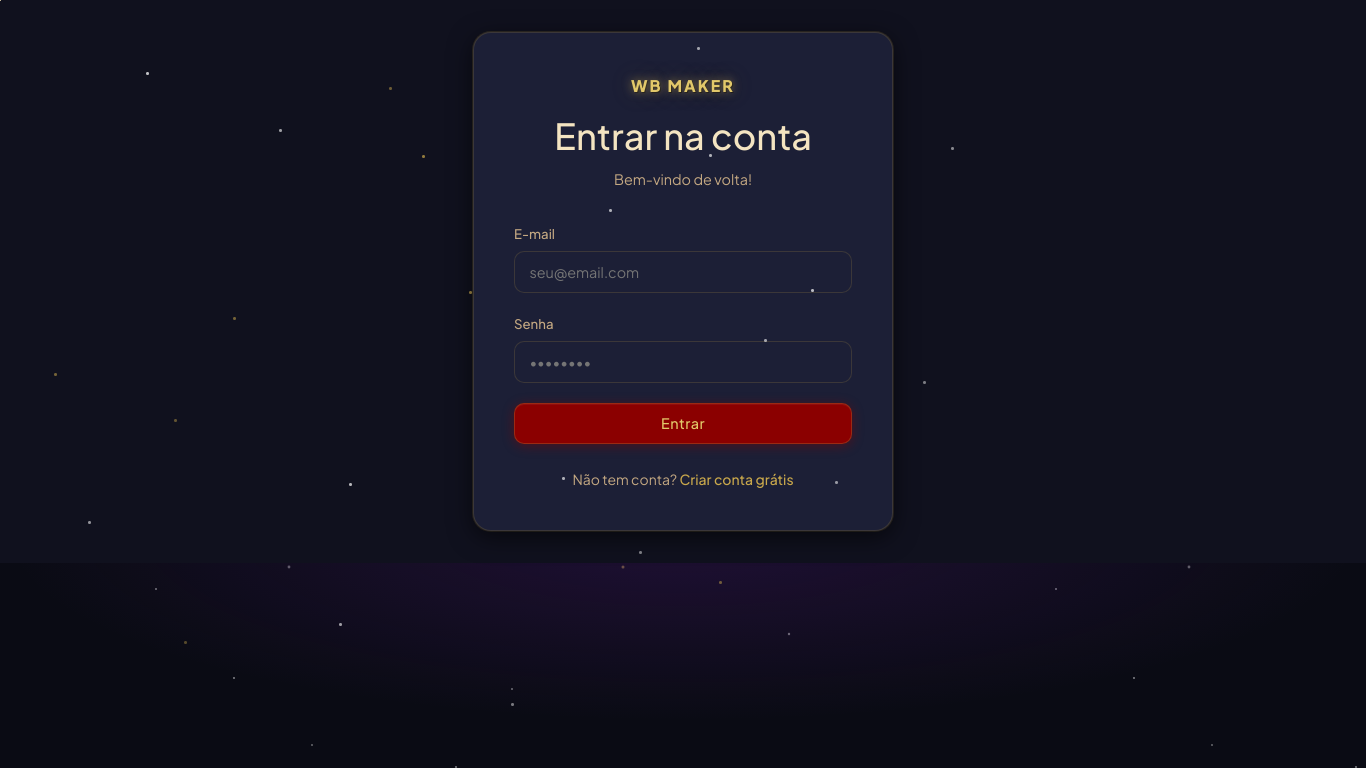
Test: LoginPage — integração › exibe mensagem de erro quando credenciais estão incorretas
Type "errado@email.com" into the field labelled "E-mail" at (683, 272), box [514,251,852,293]
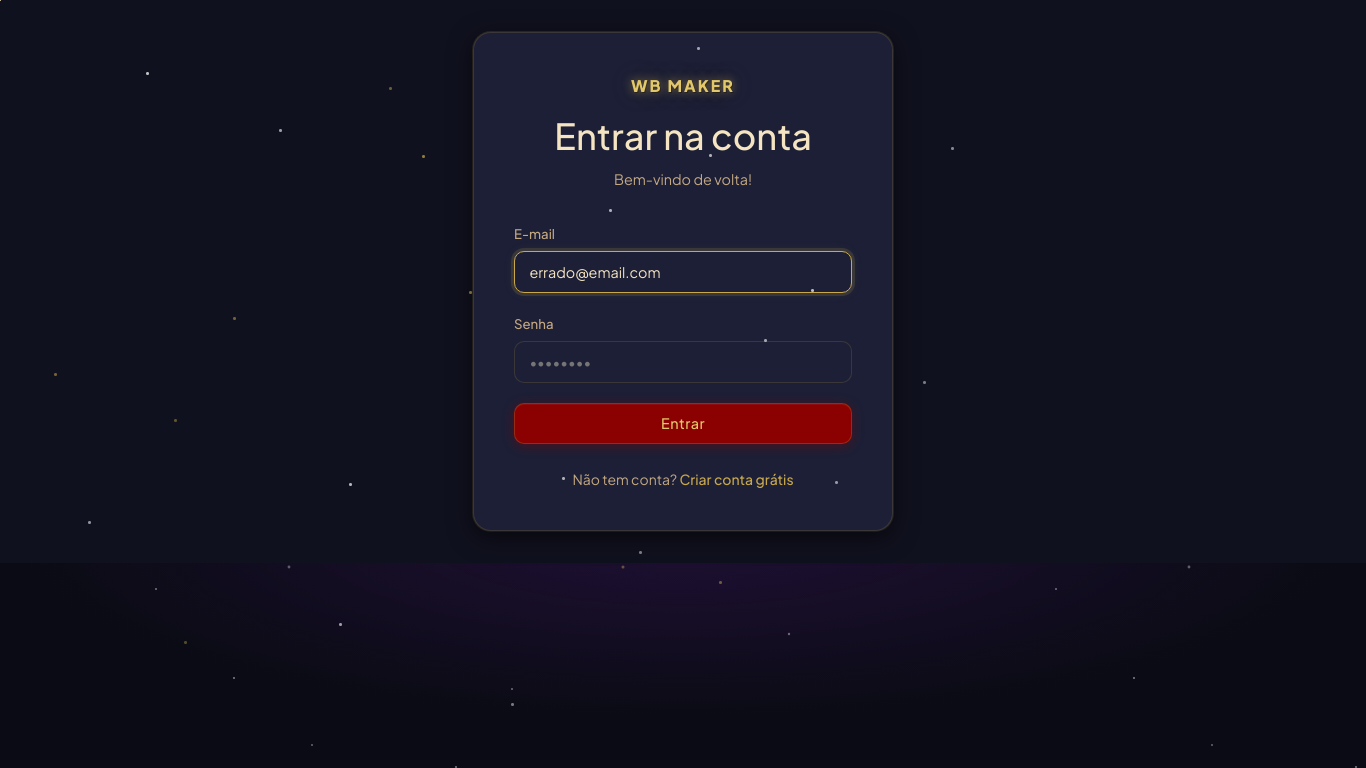
Type "senhaerrada" into the password field labelled "Senha" at (683, 362), box [514,341,852,383]
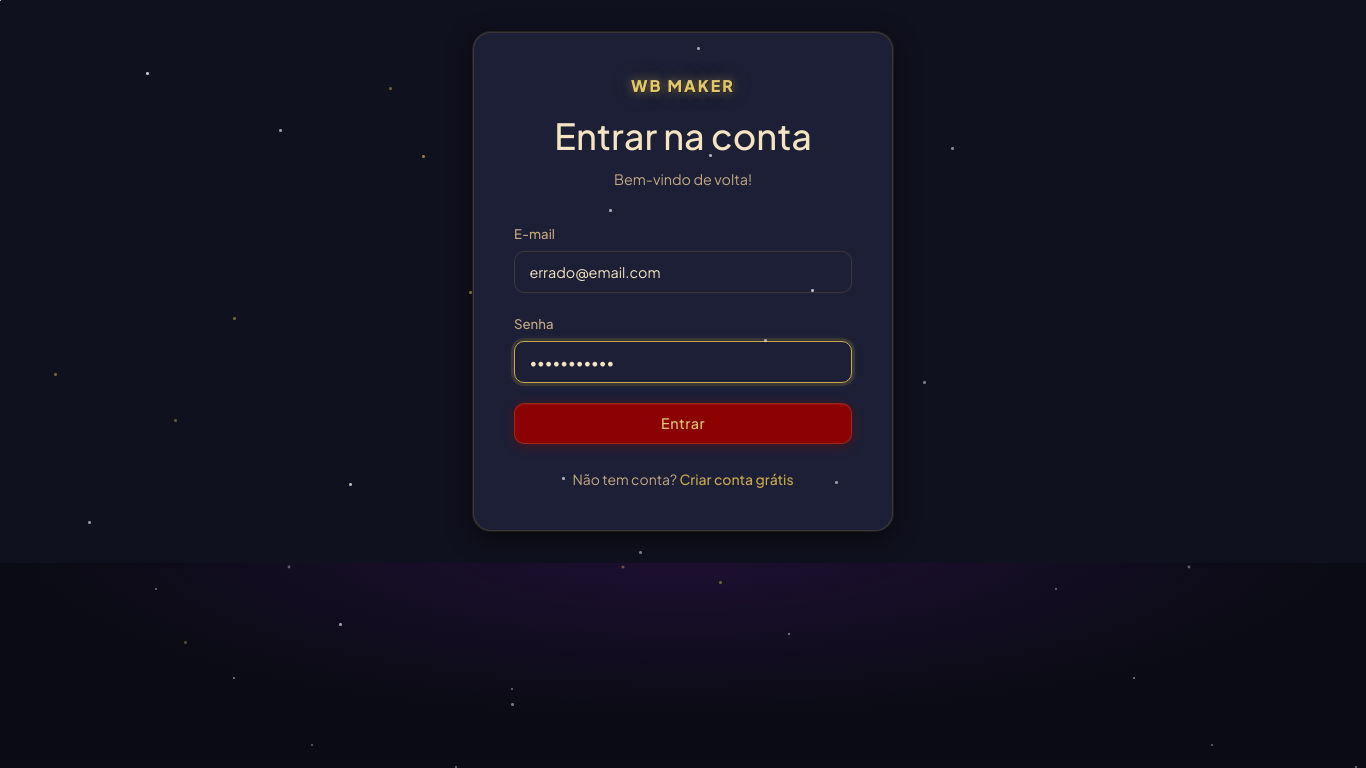
Click the button "Entrar" at (683, 423), box [514,403,852,444]
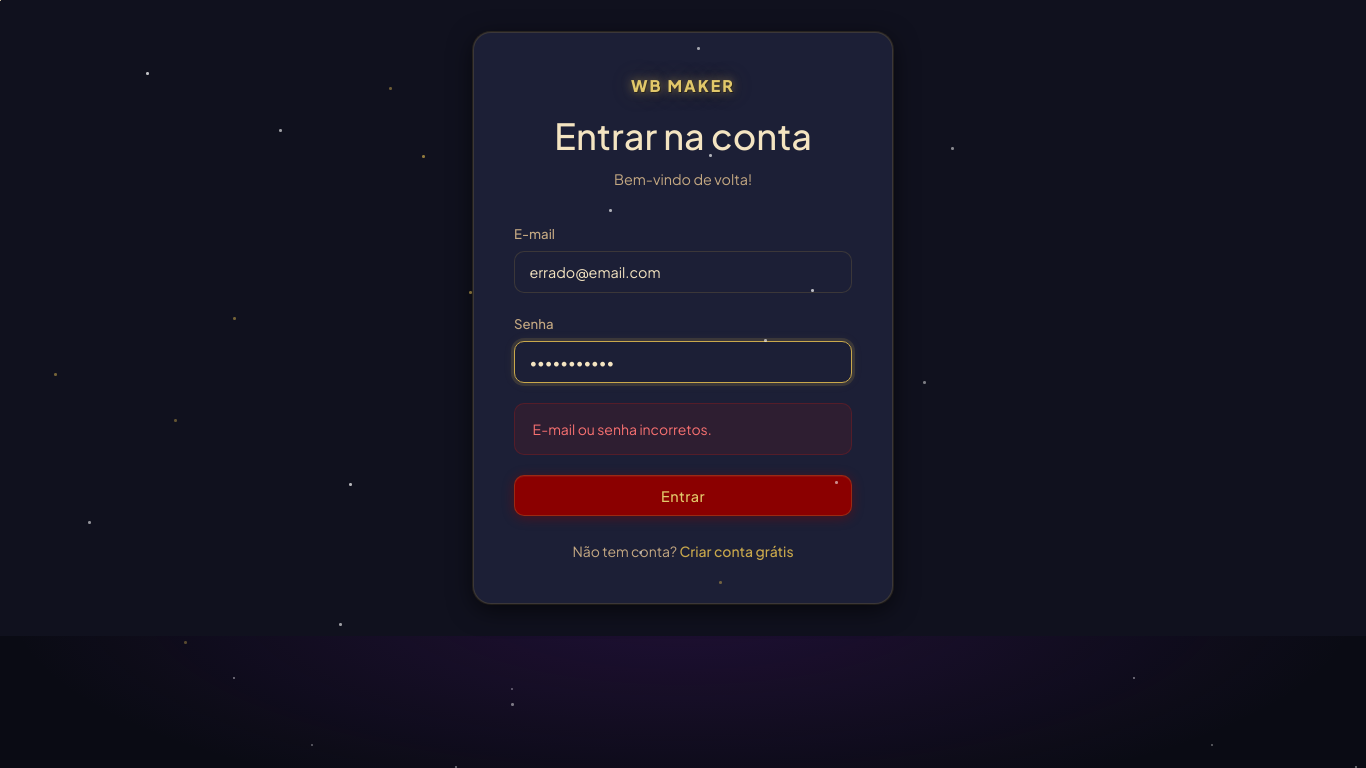
Now the text "E-mail ou senha incorretos." is shown, box [514,403,852,455]
